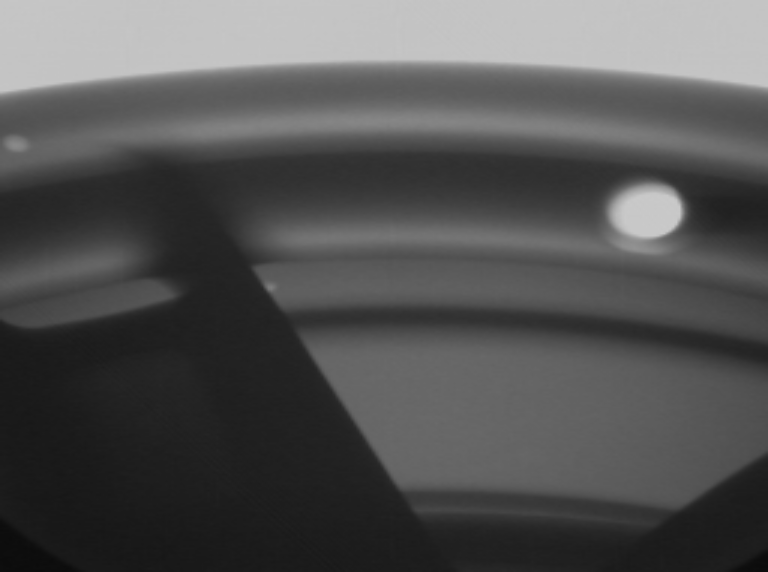defect: (6, 130, 36, 156)
